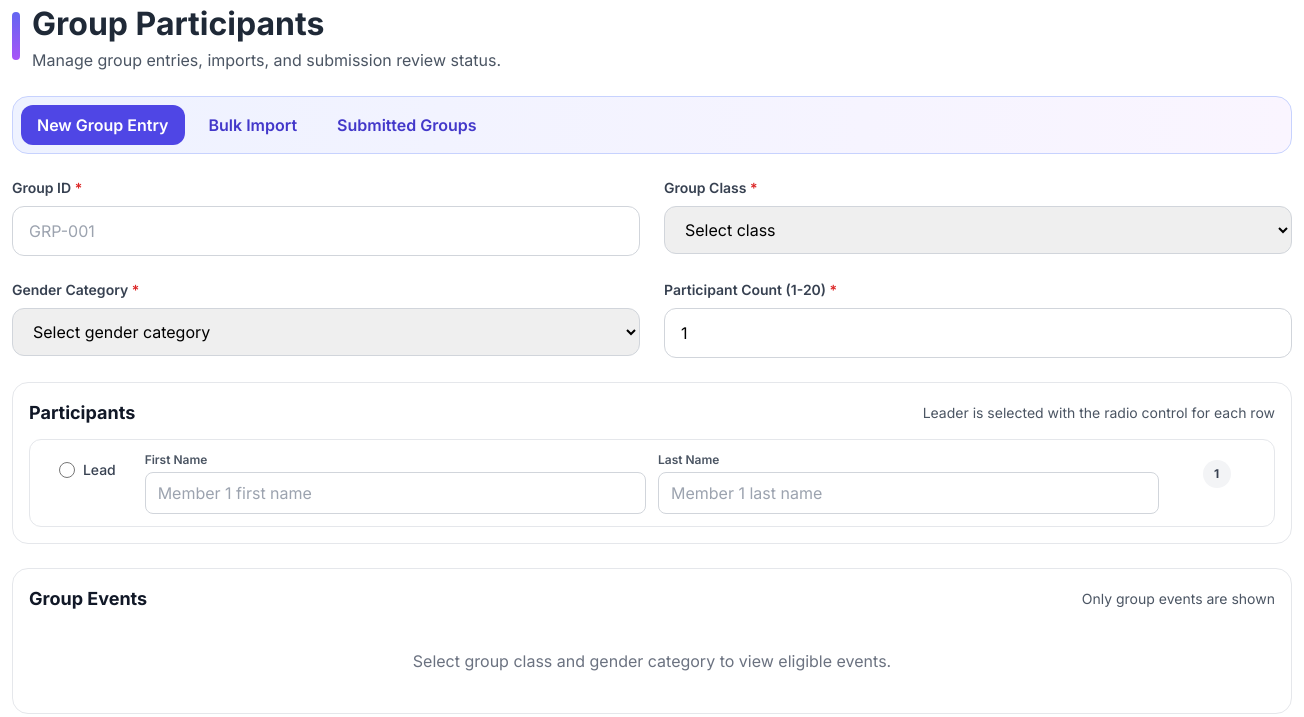
it: SchoolGroupParticipantsSection event eligibility filtering › loads compatible group events and prunes stale selected events on class/gender change
Select "HS" in the 1st dropdown showing "Select class" at point(978, 230), box [664,206,1292,254]
Select "BOYS" in the 2nd dropdown showing "Select gender category" at point(326, 332), box [12,308,640,356]
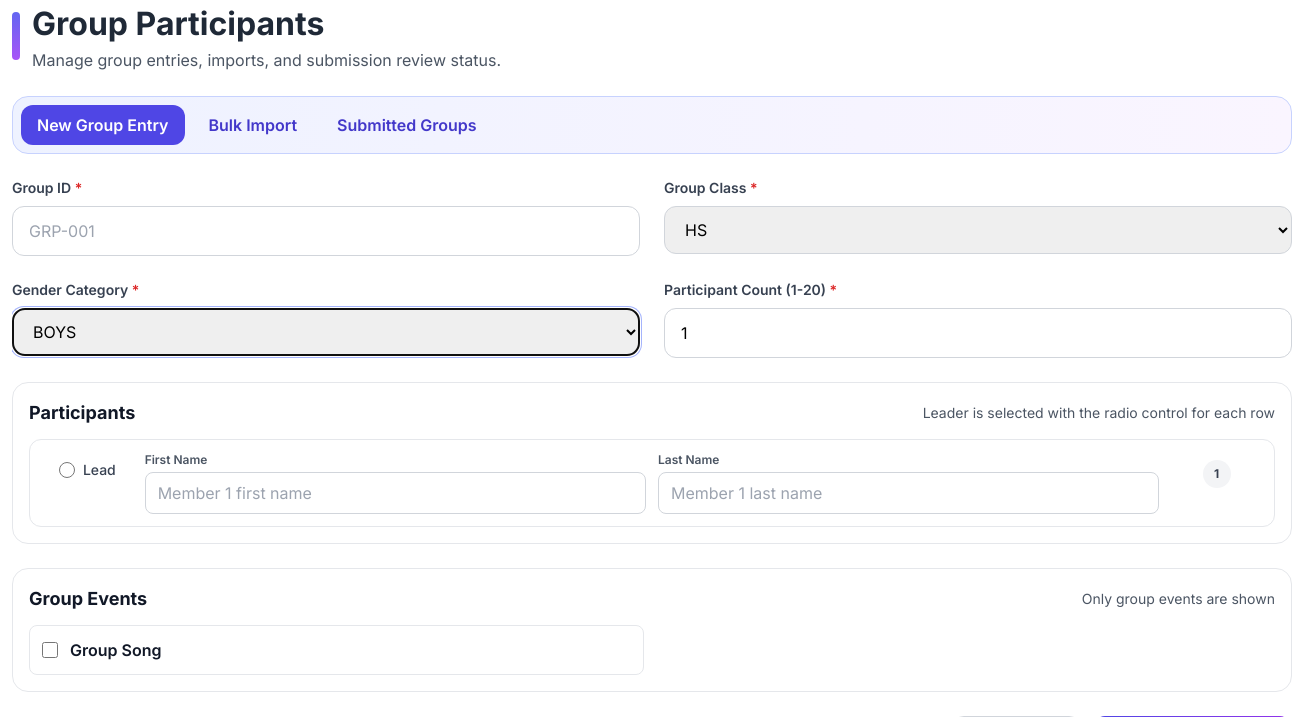
Click the checkbox labelled "Group Song" at point(50, 650), box [42,642,58,658]
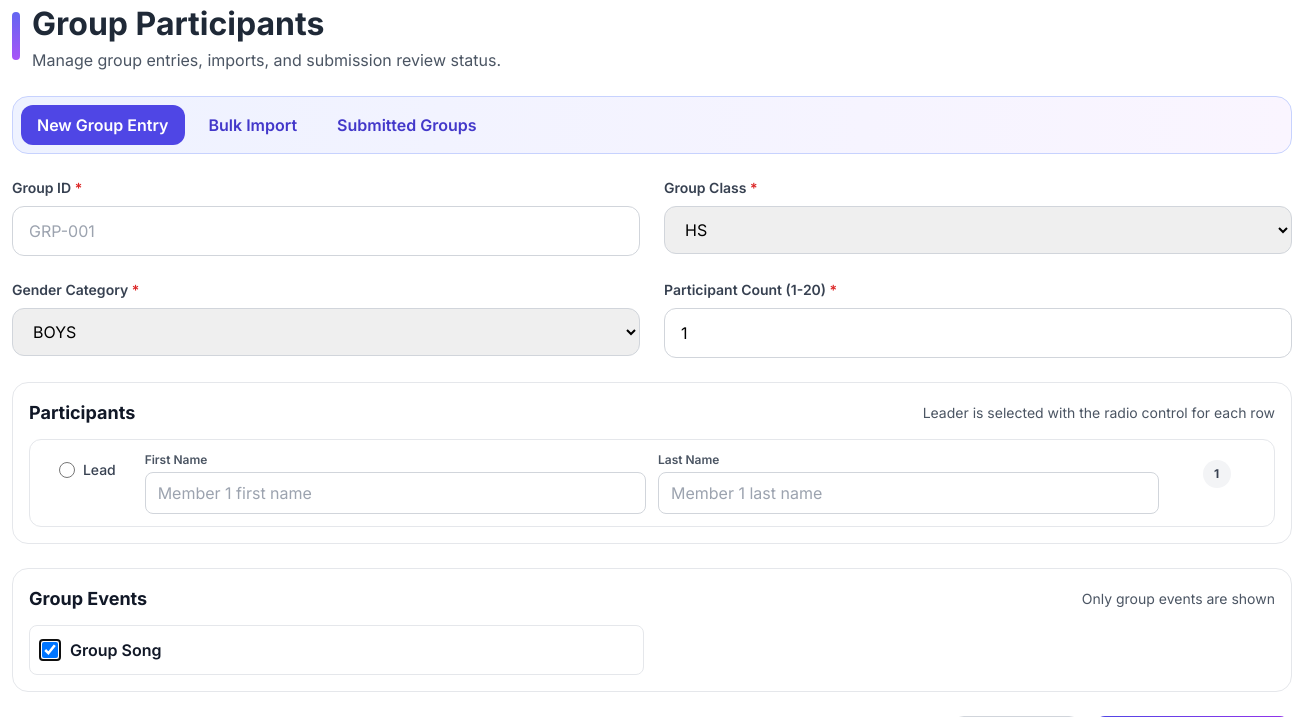
Expected: the checkbox labelled "Group Song" is checked, [42,642,58,658]
Select "UP" in the dropdown showing "Select class" below "Group Class" at point(978, 230), box [664,206,1292,254]
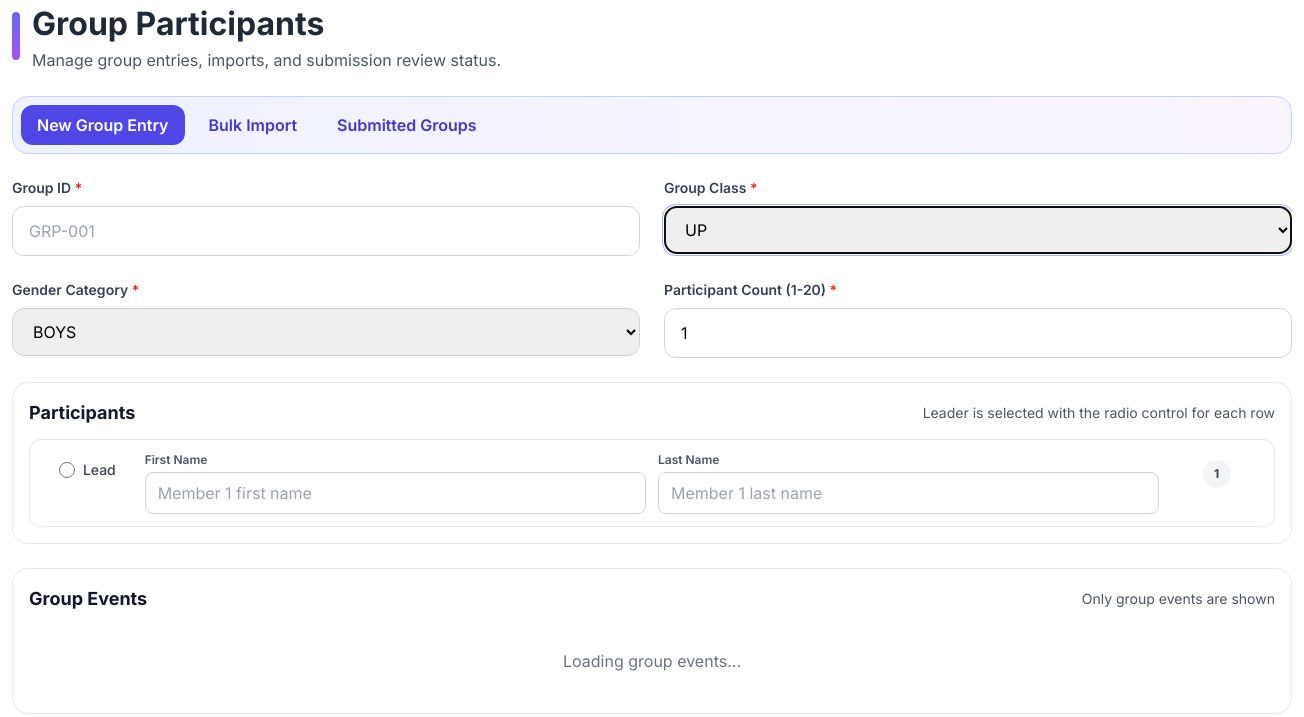
Select "GIRLS" in the dropdown showing "Select gender category" below "Gender Category" at point(326, 332), box [12,308,640,356]
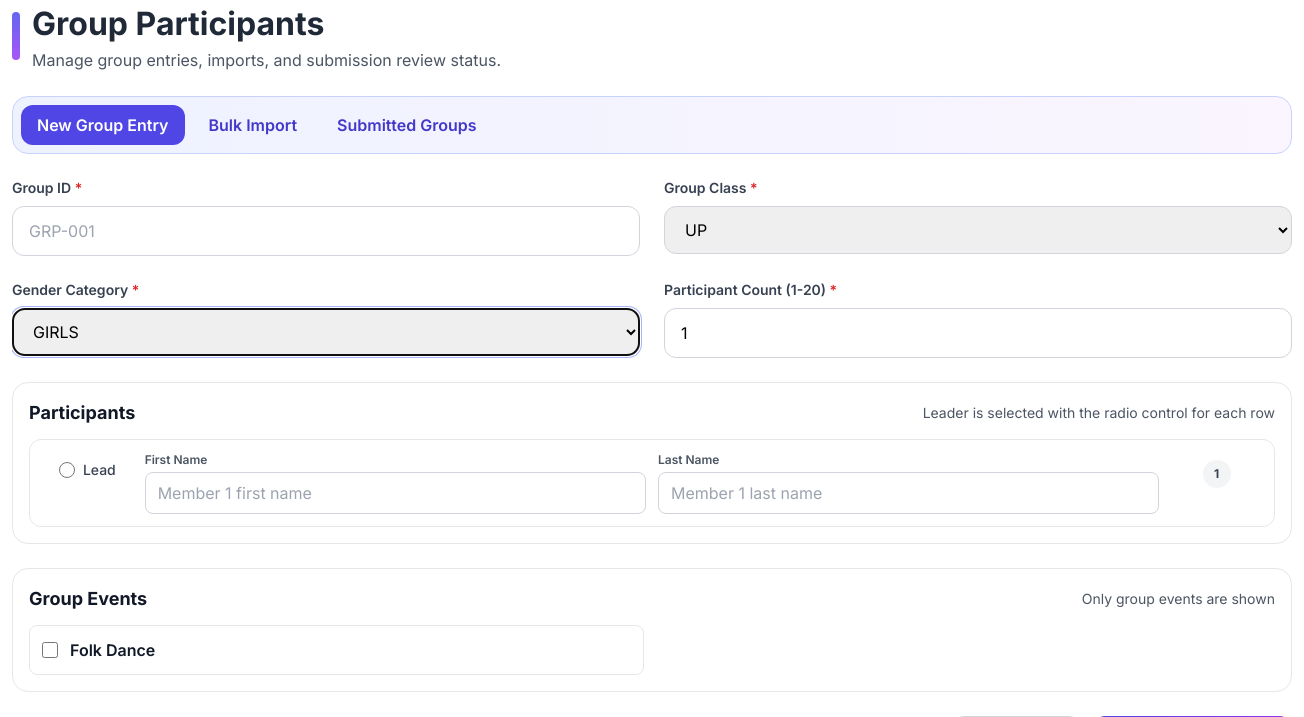
Expected: the text labelled "Group Song" is not shown
Select "HS" in the dropdown showing "Select class" below "Group Class" at point(978, 230), box [664,206,1292,254]
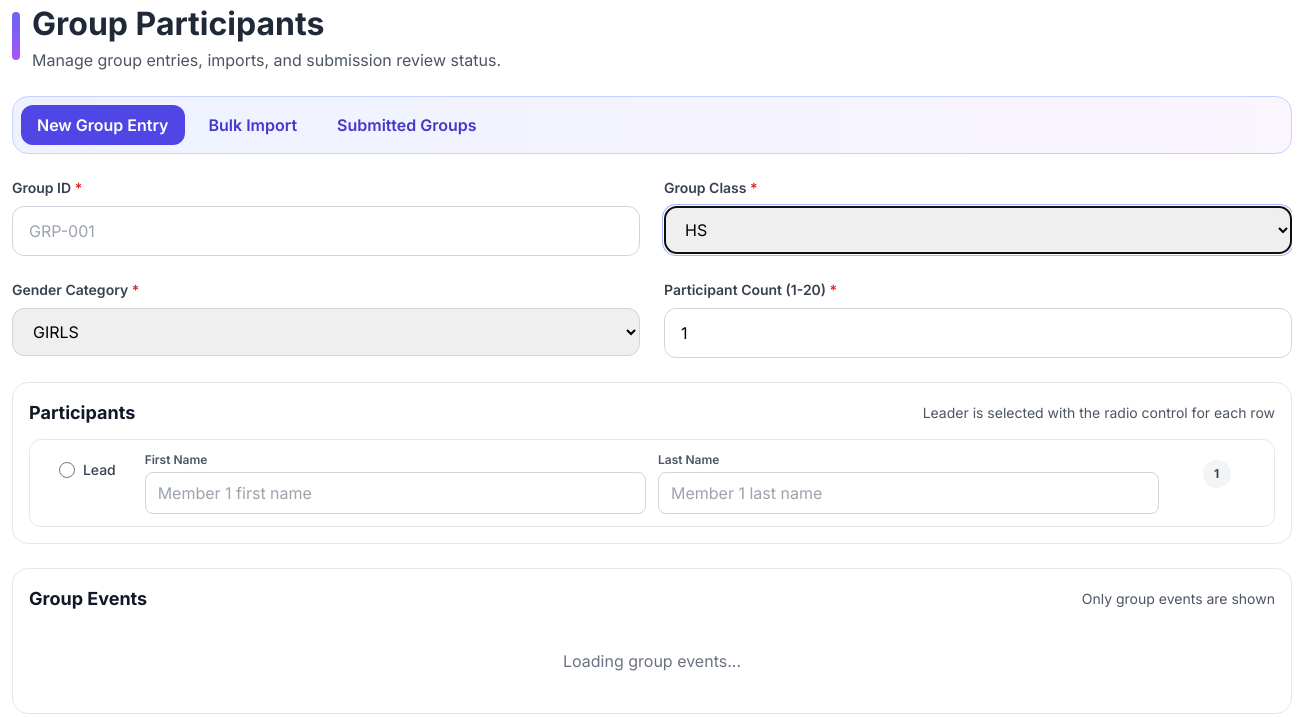
Select "BOYS" in the dropdown showing "Select gender category" below "Gender Category" at point(326, 332), box [12,308,640,356]
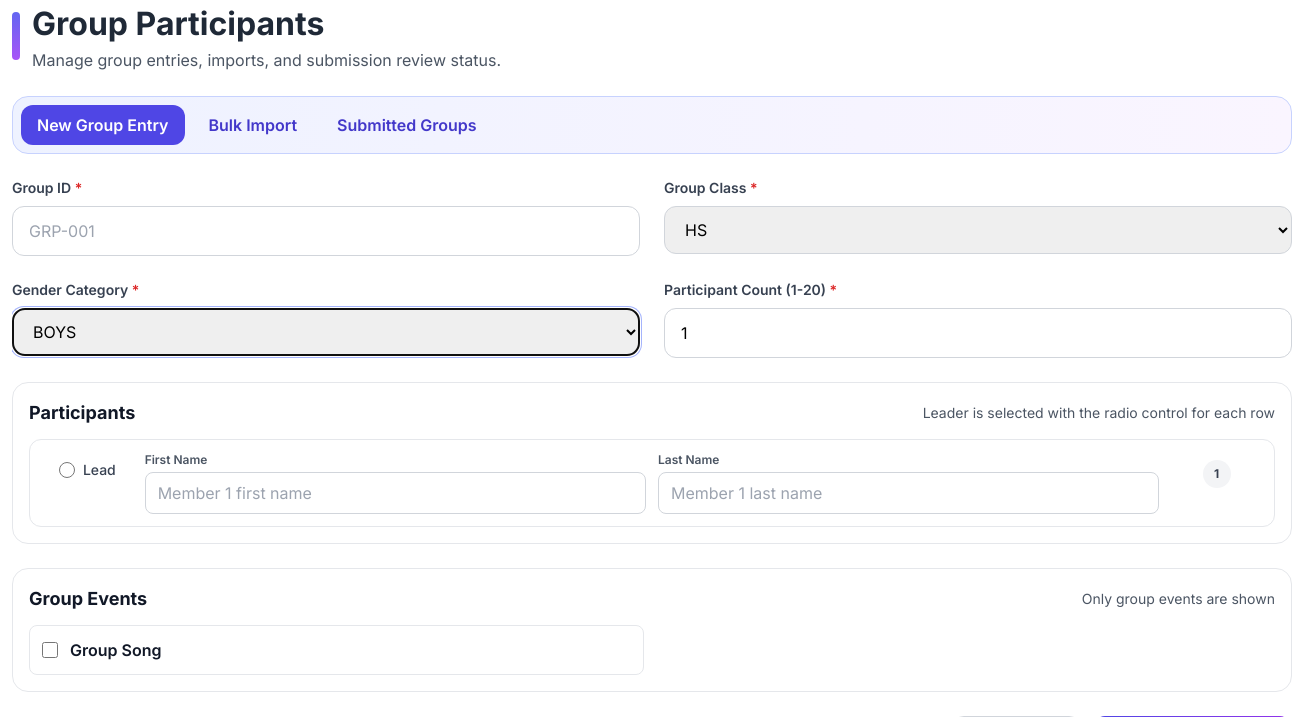
Expected: the checkbox labelled "Group Song" is not checked, [42,642,58,658]
